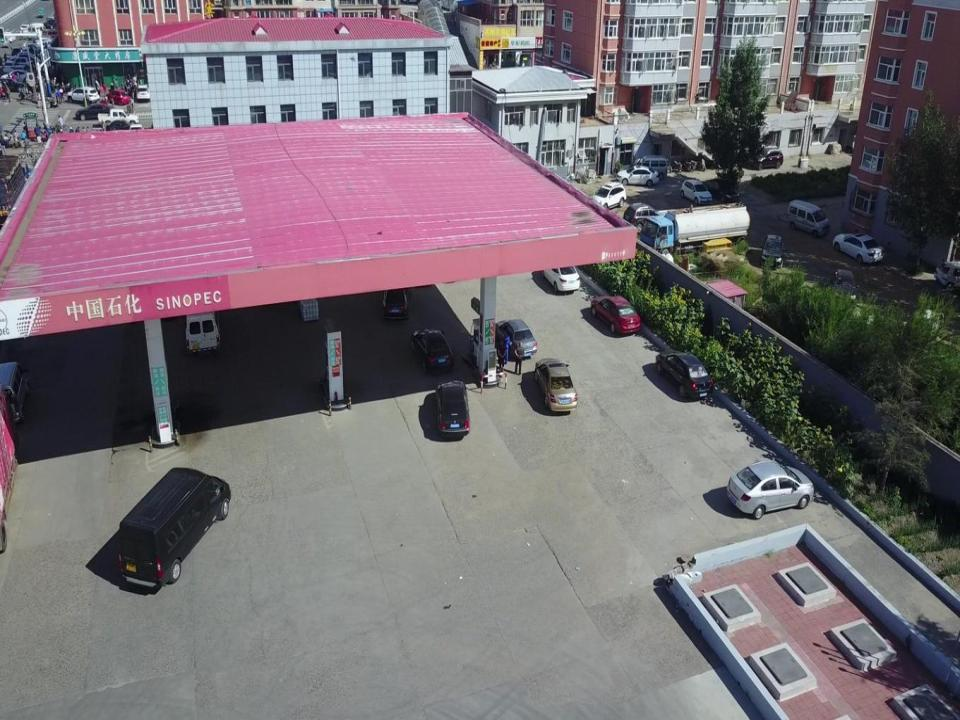car: (726, 461, 815, 520), (654, 347, 714, 399), (534, 359, 578, 413), (590, 295, 640, 336), (409, 328, 454, 373), (436, 379, 470, 436), (491, 318, 537, 358), (539, 251, 580, 293), (832, 232, 885, 264), (382, 269, 411, 321), (622, 202, 665, 233), (829, 268, 860, 308), (590, 181, 627, 214), (758, 234, 786, 270), (679, 179, 712, 206), (616, 166, 658, 186), (933, 260, 960, 290), (750, 147, 784, 170)
truck: (640, 200, 751, 262)
van: (117, 468, 232, 592), (183, 283, 221, 355), (0, 359, 31, 422), (786, 199, 830, 239), (634, 154, 668, 181)
